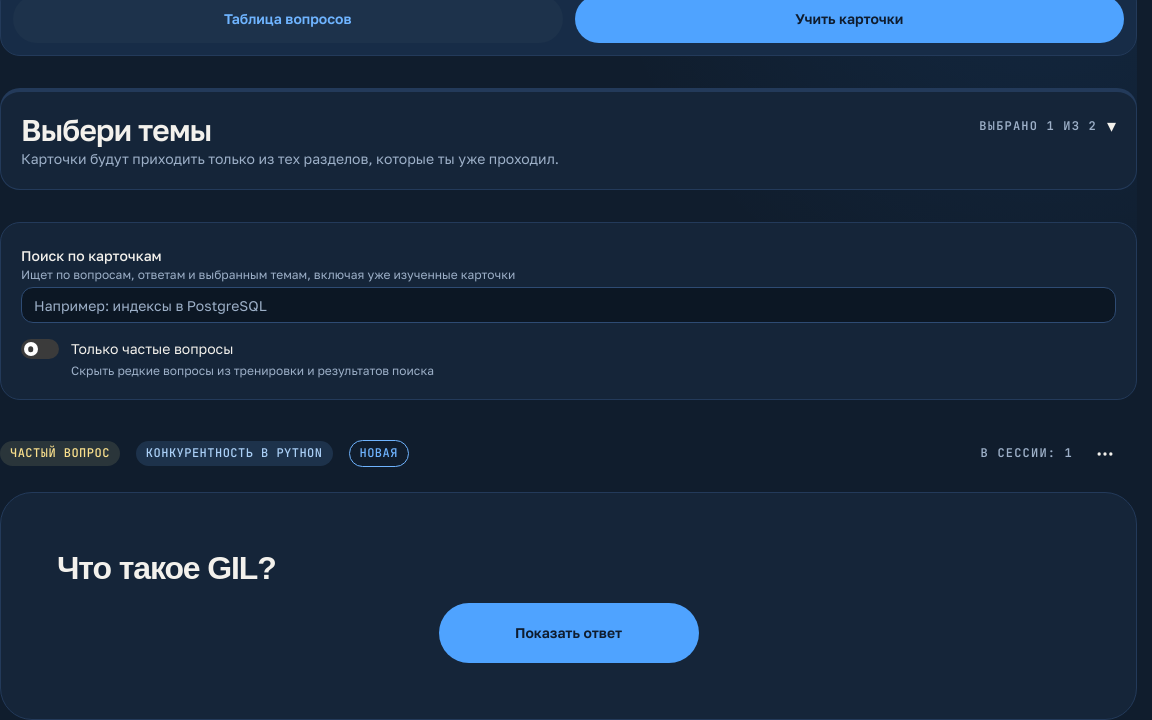
Test: скрывает ответ до переворота карточки
This screenshot has width=1152, height=720.
(page scrolled)
Expected: the heading "Что такое GIL?" is shown, [57,550,276,586]
Expected: the text "блокирует параллельное" is not shown
Step 1. Click the button "Показать ответ" → (568, 633), box [438,603,698,663]
(page scrolled)
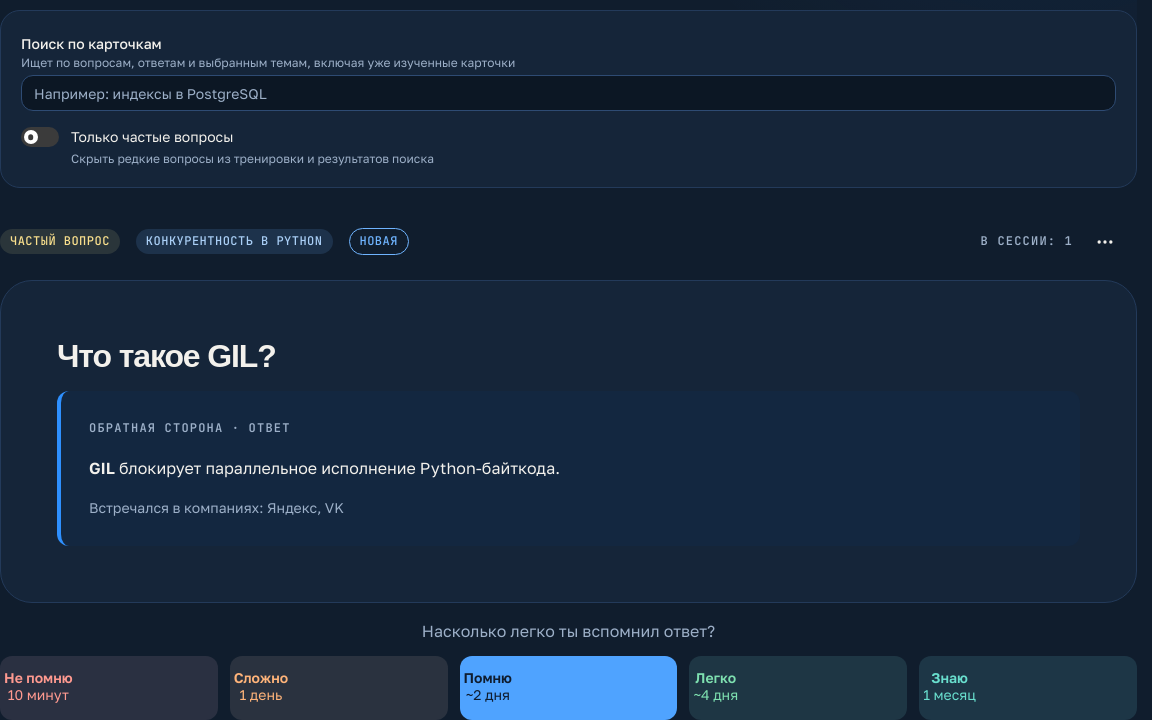
Expected: the text "Частый вопрос" is shown, [10,234,110,250]
Now the text "GIL блокирует параллельное исполнение Python-байткода." is shown, box [89,458,560,478]
Now the text "Встречался в компаниях: Яндекс, VK" is shown, box [89,499,344,516]
